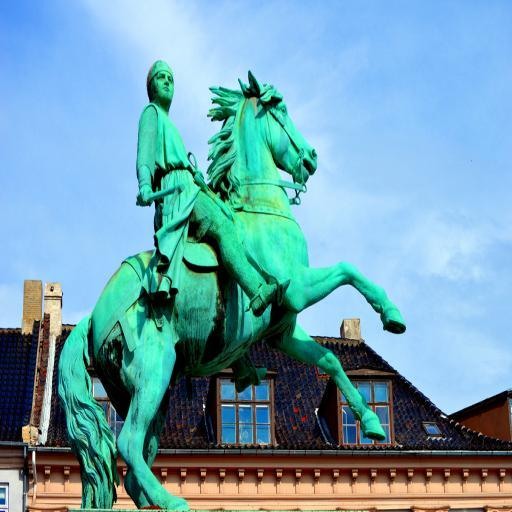Horse: (56, 66, 404, 512)
